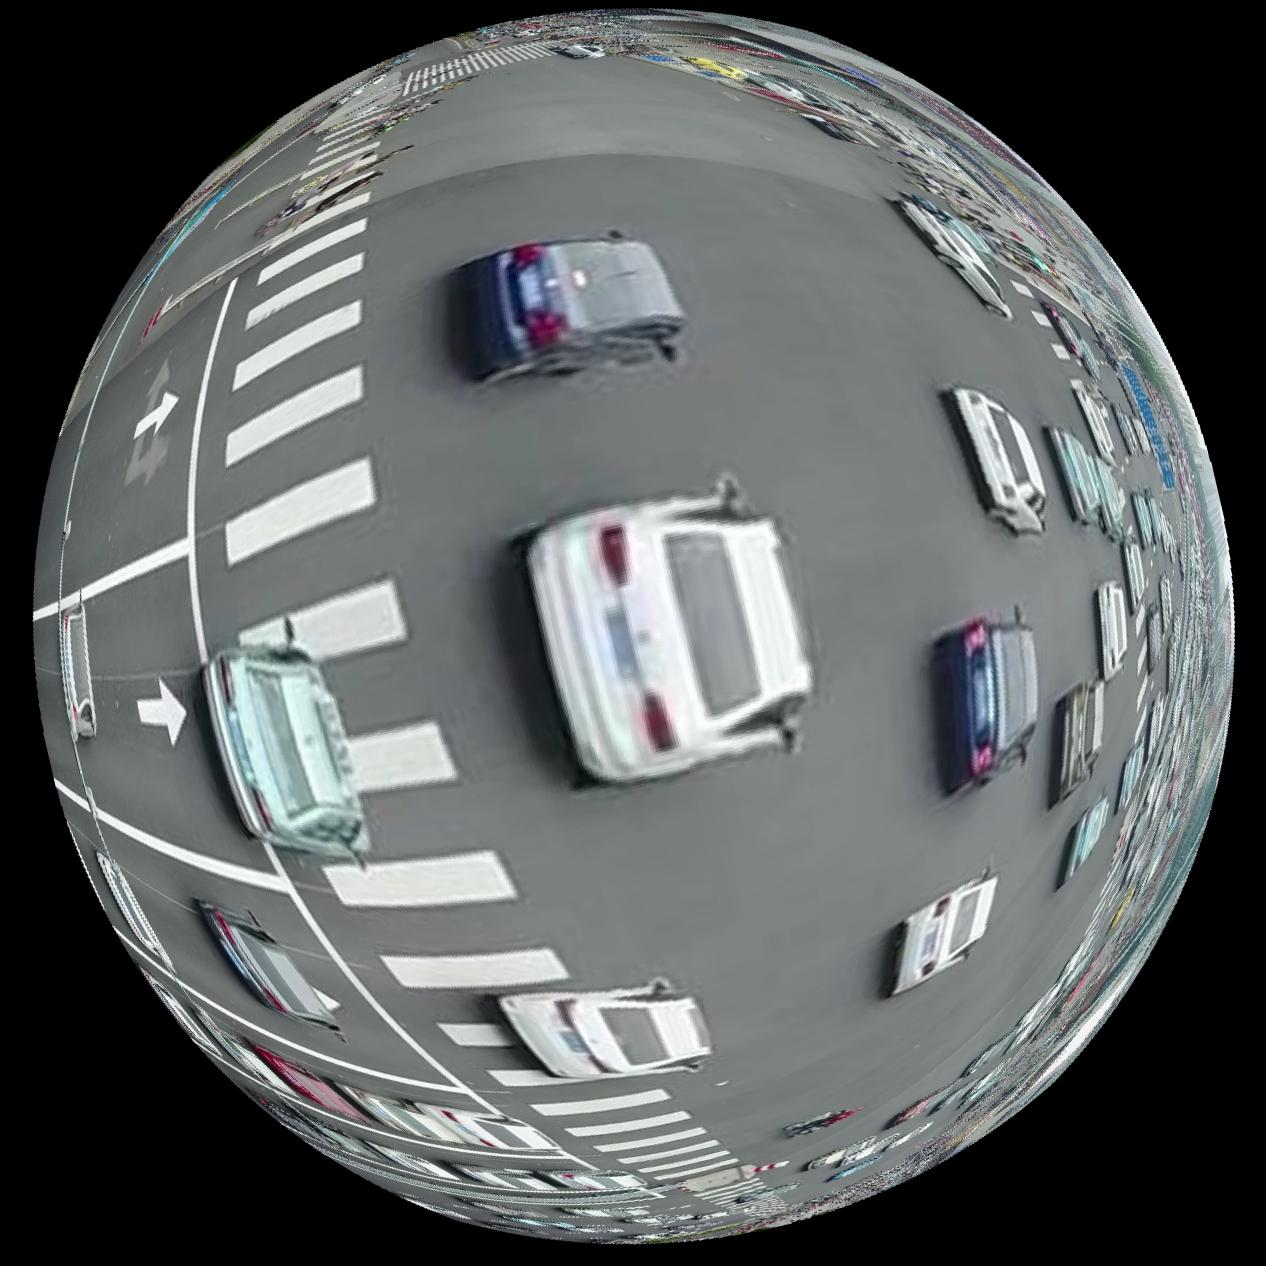cars: (519, 476, 813, 785), (200, 646, 367, 862), (460, 231, 685, 382), (497, 985, 712, 1081), (194, 902, 339, 1039), (936, 611, 1039, 795), (941, 385, 1048, 535), (893, 196, 1012, 318), (888, 876, 997, 996), (92, 852, 170, 972), (252, 1048, 366, 1124), (1051, 680, 1106, 807), (340, 1088, 455, 1143), (426, 1107, 553, 1154), (1044, 424, 1101, 525), (56, 601, 93, 739), (1057, 796, 1111, 888), (1095, 580, 1128, 682), (1093, 456, 1125, 541), (1043, 302, 1086, 365), (1116, 745, 1145, 814), (1121, 540, 1148, 613), (1146, 606, 1164, 674)
